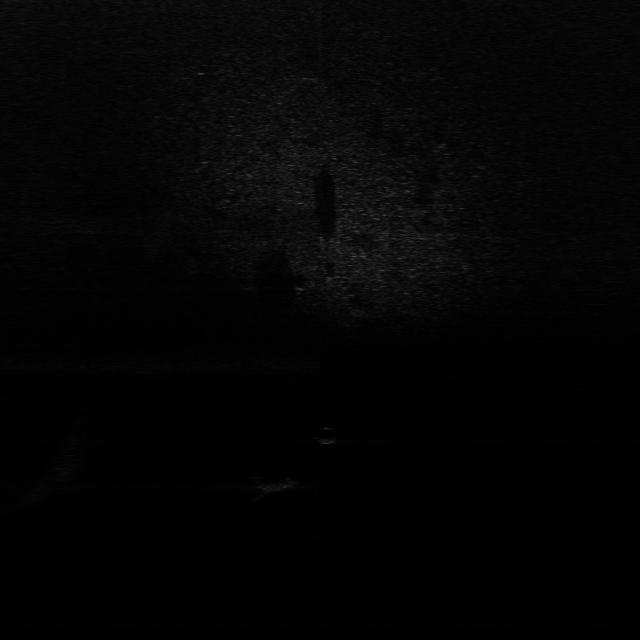ball: (312, 424, 343, 446)
square cage: (249, 473, 307, 494)
